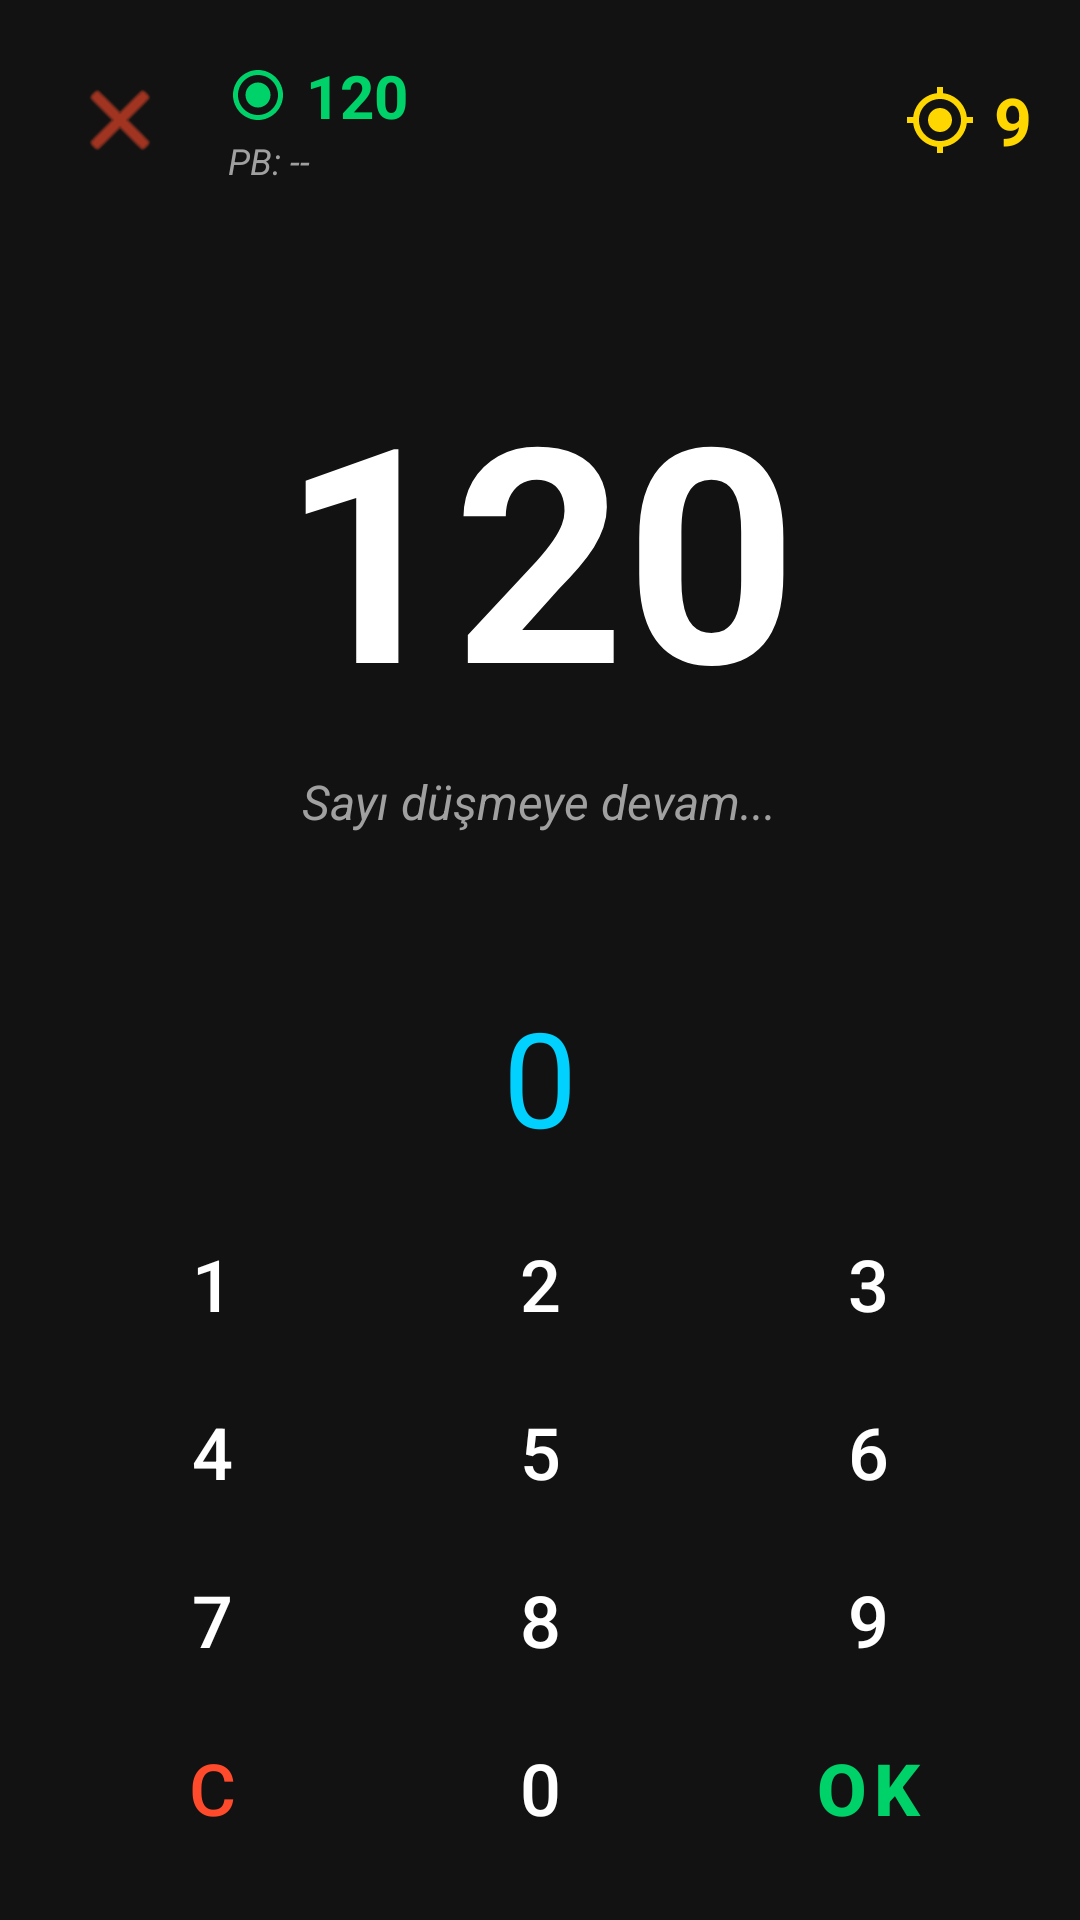

Icons on this 1080px×1920px Android screen, each with the point to tap as (x=x, y=y):
bullseye: (x=258, y=95)
close clear cancel: (x=120, y=120)
target: (x=940, y=120)
